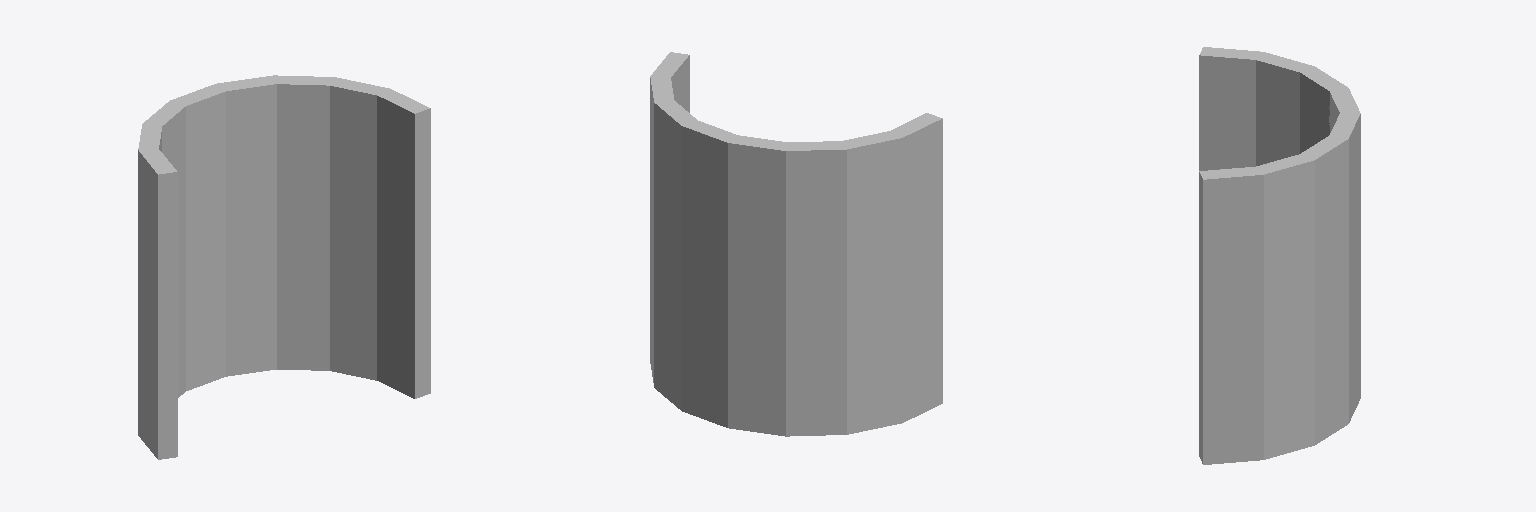
File: power_meter_segment.obj
The picture shows the model from 3 angles: view 1: azimuth 30°, elevation 25°; view 2: azimuth 150°, elevation 25°; view 3: azimuth 270°, elevation 25°; orthographic projection.
Visible parts, largest first — view 1: PowerMeterSegment; view 2: PowerMeterSegment; view 3: PowerMeterSegment.
Boxes of the visible parts, <box> form: PowerMeterSegment: <box>138,75,430,459</box>; PowerMeterSegment: <box>650,52,942,436</box>; PowerMeterSegment: <box>1199,47,1360,464</box>.
Bounding box in the file's own units: 1.96 × 1.96 × 1.